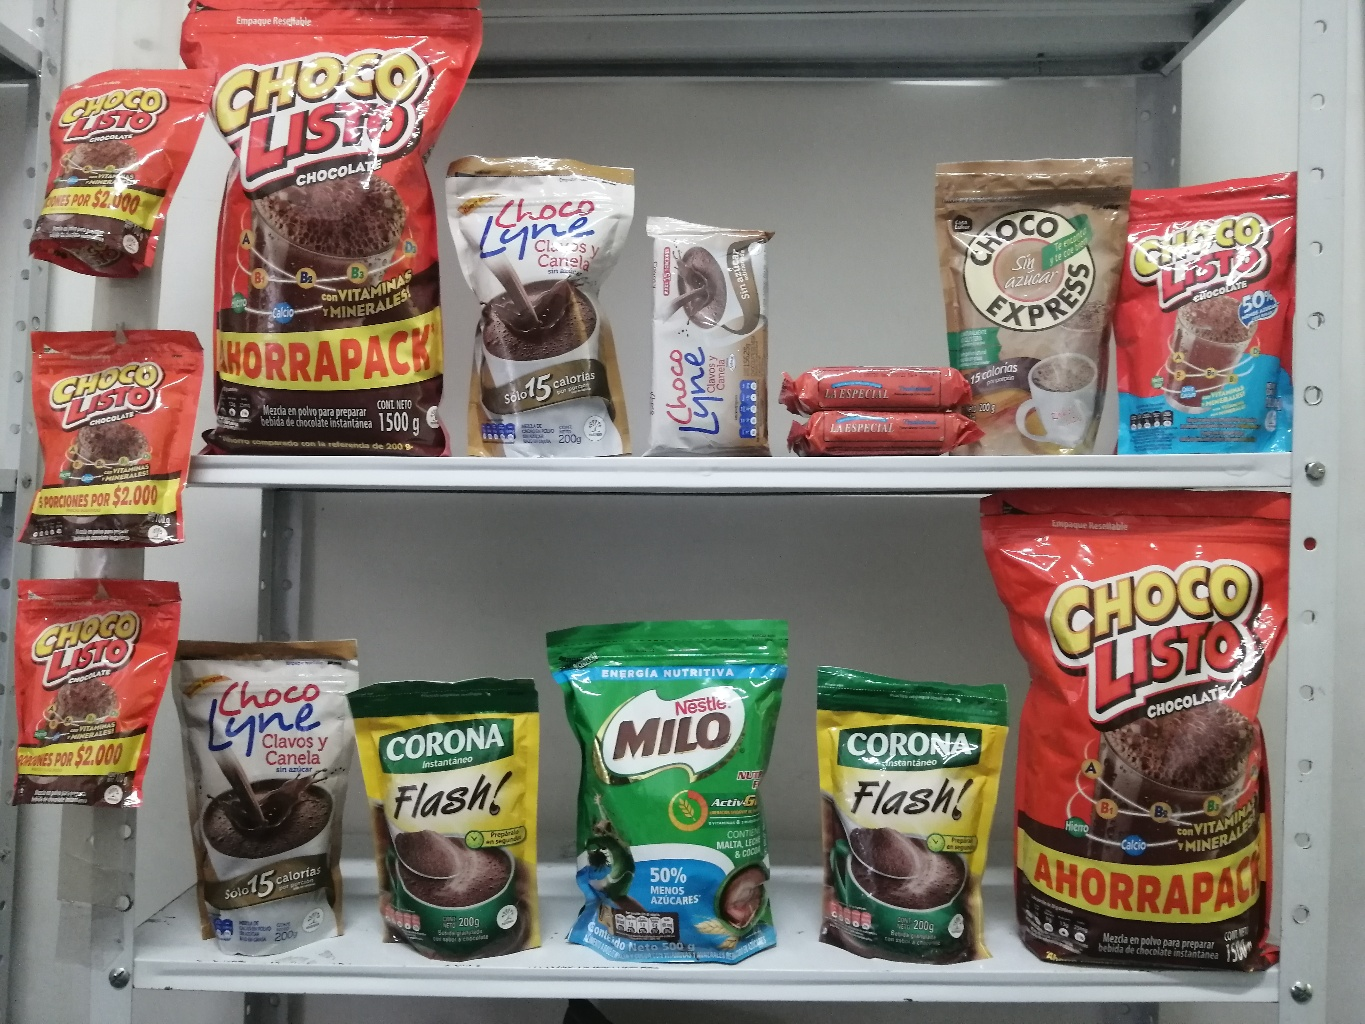COL0170104DYP20000: (1119, 167, 1292, 454)
